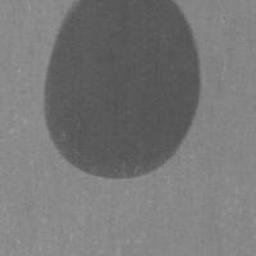Oil spot: (42, 0, 202, 180)
